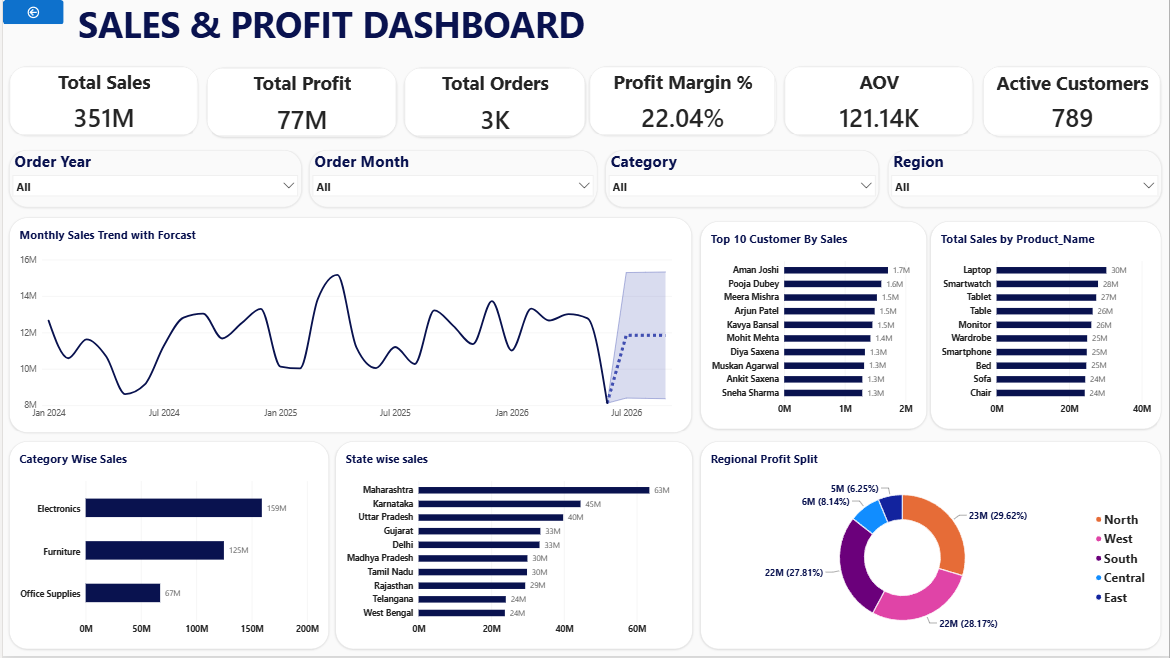

What the dashboard file says about the page in this screenshot:
{"tool":"powerbi","page":{"name":"Summery","canvas":[1920,1080],"ordinal":0},"visuals":[{"type":"textbox","box":[10.9,0,1909.8,109.3],"z":0},{"type":"cardVisual","fields":{"Data":["Sales.Total Profit"]},"box":[334.8,110.4,313.1,114],"z":1000},{"type":"cardVisual","fields":{"Data":["Sales.Total Sales"]},"box":[10.9,108.6,311.3,114],"z":2000},{"type":"cardVisual","fields":{"Data":["Sales.Total Orders"]},"box":[660.5,110.4,298.6,114],"z":3000},{"type":"cardVisual","fields":{"Data":["Sales.Profit Margin %"]},"box":[966.4,108.6,307.6,114],"z":4000},{"type":"cardVisual","fields":{"Data":["Sales.AOV"]},"box":[1286.7,108.6,311.3,114],"z":5000},{"type":"cardVisual","fields":{"Data":["Sales.Active Customers"]},"box":[1614.2,108.6,293.2,115.8],"z":6000},{"type":"slicer","fields":{"Values":["Sales.Order Year"]},"box":[10.9,247.9,481.4,94.1],"z":7000},{"type":"slicer","fields":{"Values":["Sales.Order Month"]},"box":[504.9,247.9,474.1,94.1],"z":8000},{"type":"slicer","fields":{"Values":["Sales.Category"]},"box":[991.7,247.9,450.6,94.1],"z":9000},{"type":"slicer","fields":{"Values":["Sales.Region"]},"box":[1456.8,247.9,450.6,94.1],"z":10000},{"type":"lineChart","title":"Monthly Sales Trend with Forcast","fields":{"Y":["Sum(Sales.Sales_Amount)"],"Category":["Sales.Order_Date.Variation.Date Hierarchy.Year","Sales.Order_Date.Variation.Date Hierarchy.Month"]},"box":[10.9,358.3,1123.8,354.7],"z":11000},{"type":"donutChart","title":"Regional Profit Split","fields":{"Category":["Sales.Region"],"Y":["Sales.Total Profit"]},"box":[1149.1,725.7,758.2,342],"z":12000},{"type":"clusteredBarChart","title":"Category Wise Sales  ","fields":{"Category":["Sales.Category"],"Y":["Sales.Total Sales"]},"box":[10.9,725.7,526.6,342],"z":13000},{"type":"clusteredBarChart","title":"State wise sales","fields":{"Category":["Sales.State"],"Y":["Sales.Total Sales"]},"box":[546.5,725.7,588.1,342],"z":14000},{"type":"clusteredBarChart","title":"Top 10 Customer By Sales","fields":{"Category":["Sales.Customer_Name"],"Y":["Sales.Total Sales"]},"box":[1149.1,363.7,372.8,342],"z":15000},{"type":"clusteredBarChart","fields":{"Category":["Sales.Product_Name"],"Y":["Sales.Total Sales"]},"box":[1527.4,363.7,380,342],"z":16000},{"type":"actionButton","box":[0,0,100,40],"z":16001}]}

Visuals, with their boxes in screenshot pixels (x1, y1, x2, y2), scaled from the page's 1920x1080 canvas onto the 1170x658 screenshot:
textbox: rect(7, 0, 1169, 67)
cardVisual - Sales.Total Profit: rect(204, 67, 395, 137)
cardVisual - Sales.Total Sales: rect(7, 66, 196, 136)
cardVisual - Sales.Total Orders: rect(402, 67, 584, 137)
cardVisual - Sales.Profit Margin %: rect(589, 66, 776, 136)
cardVisual - Sales.AOV: rect(784, 66, 974, 136)
cardVisual - Sales.Active Customers: rect(984, 66, 1162, 137)
slicer - Sales.Order Year: rect(7, 151, 300, 208)
slicer - Sales.Order Month: rect(308, 151, 597, 208)
slicer - Sales.Category: rect(604, 151, 879, 208)
slicer - Sales.Region: rect(888, 151, 1162, 208)
"Monthly Sales Trend with Forcast" lineChart: rect(7, 218, 691, 434)
"Regional Profit Split" donutChart: rect(700, 442, 1162, 651)
"Category Wise Sales  " clusteredBarChart: rect(7, 442, 328, 651)
"State wise sales" clusteredBarChart: rect(333, 442, 691, 651)
"Top 10 Customer By Sales" clusteredBarChart: rect(700, 222, 927, 430)
clusteredBarChart - Sales.Product_Name x Sales.Total Sales: rect(931, 222, 1162, 430)
actionButton: rect(0, 0, 61, 24)
